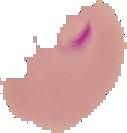parasitized: (59, 12, 95, 55)
